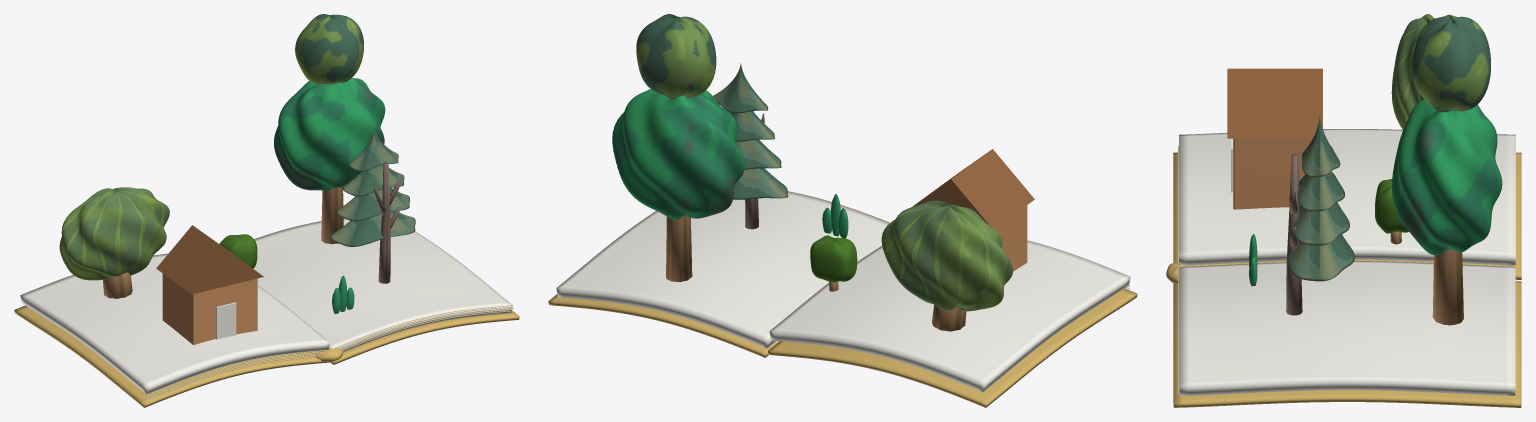
File: 07_g57125111_open_book.glb
The picture shows the model from 3 angles, left to right: view 1: azimuth 30°, elevation 25°; view 2: azimuth 150°, elevation 25°; view 3: azimuth 270°, elevation 25°; orthographic projection. The views are drawn at different scales.
Visible parts, largest first — view 1: Curved open ivory book page.001, Curved open ivory book page, Book round dark green crown, Broad green canopy, Storybook ochre house, Golden book cover, Book upper round crown, Storybook gabled roof, Book pine curved tier 0, Golden book cover.001, Book pine curved tier 1, Book pine tapered trunk (+6 smaller); view 2: Curved open ivory book page.001, Curved open ivory book page, Book round dark green crown, Broad green canopy, Golden book cover, Book upper round crown, Storybook gabled roof, Golden book cover.001, Soft square green canopy, Book rear round tree trunk, Storybook ochre house, Book pine curved tier 0 (+4 smaller); view 3: Curved open ivory book page.001, Curved open ivory book page, Book round dark green crown, Storybook gabled roof, Book upper round crown, Golden book cover.001, Storybook ochre house, Book rear round tree trunk, Book pine curved tier 0, Broad green canopy, Golden book cover, Book pine curved tier 1 (+4 smaller).
Part boxes in pixels (left/top/right/bottom): Curved open ivory book page.001: left=253, top=218, right=512, bottom=351; Curved open ivory book page: left=20, top=253, right=329, bottom=394; Book round dark green crown: left=274, top=78, right=385, bottom=190; Broad green canopy: left=59, top=187, right=169, bottom=280; Storybook ochre house: left=162, top=273, right=257, bottom=344; Golden book cover: left=14, top=305, right=330, bottom=407; Book upper round crown: left=295, top=14, right=363, bottom=84; Storybook gabled roof: left=156, top=225, right=263, bottom=294; Book pine curved tier 0: left=330, top=211, right=415, bottom=246; Golden book cover.001: left=330, top=311, right=519, bottom=364; Book pine curved tier 1: left=336, top=188, right=409, bottom=221; Book pine tapered trunk: left=378, top=162, right=390, bottom=283; Curved open ivory book page.001: left=556, top=192, right=889, bottom=348; Curved open ivory book page: left=769, top=240, right=1130, bottom=391; Book round dark green crown: left=612, top=89, right=745, bottom=220; Broad green canopy: left=881, top=200, right=1012, bottom=311; Golden book cover: left=768, top=288, right=1137, bottom=407; Book upper round crown: left=636, top=14, right=716, bottom=98; Storybook gabled roof: left=912, top=149, right=1034, bottom=228; Golden book cover.001: left=548, top=294, right=779, bottom=357; Soft square green canopy: left=810, top=235, right=857, bottom=282; Book rear round tree trunk: left=666, top=214, right=692, bottom=282; Storybook ochre house: left=995, top=205, right=1027, bottom=271; Book pine curved tier 0: left=733, top=168, right=788, bottom=199; Curved open ivory book page.001: left=1179, top=261, right=1515, bottom=395; Curved open ivory book page: left=1179, top=129, right=1515, bottom=265; Book round dark green crown: left=1391, top=99, right=1502, bottom=255; Storybook gabled roof: left=1227, top=68, right=1322, bottom=138; Book upper round crown: left=1411, top=14, right=1490, bottom=112; Golden book cover.001: left=1173, top=281, right=1521, bottom=407; Storybook ochre house: left=1233, top=138, right=1312, bottom=209; Book rear round tree trunk: left=1432, top=249, right=1463, bottom=325; Book pine curved tier 0: left=1288, top=234, right=1354, bottom=281; Broad green canopy: left=1391, top=14, right=1434, bottom=129; Golden book cover: left=1173, top=152, right=1521, bottom=279; Book pine curved tier 1: left=1293, top=202, right=1349, bottom=245.
Size of the model in its own units: 6.94 by 4.4 by 4.23.
